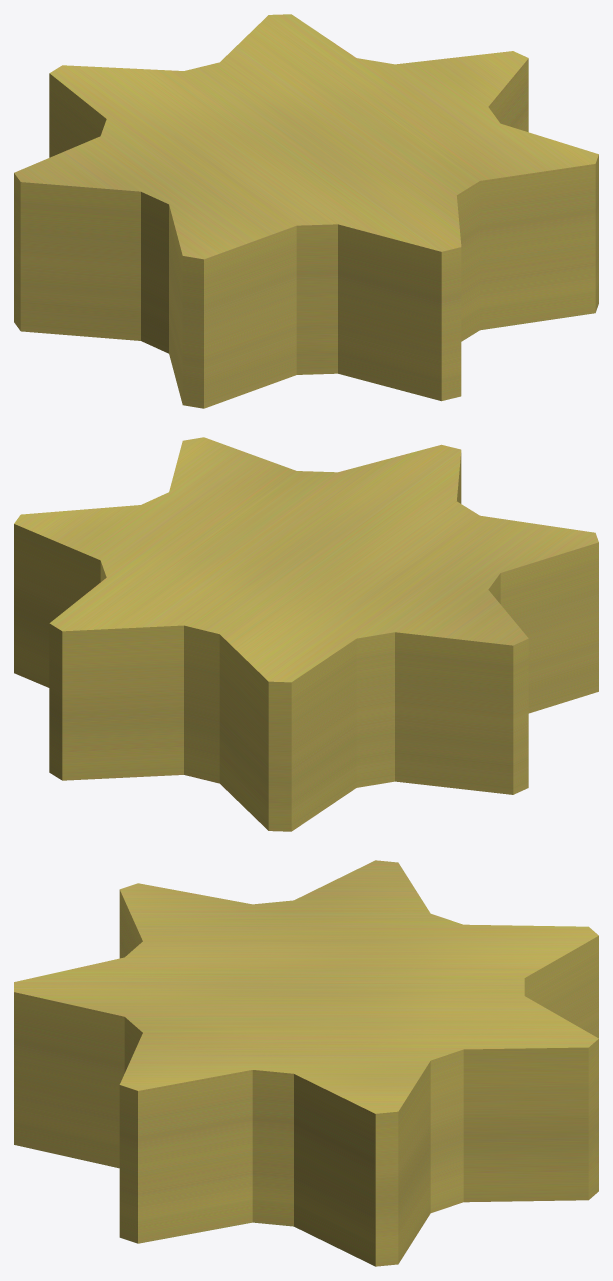
The model's file is Cog007.fbx.
3 renders of one model, top to bottom at view 1: azimuth 30°, elevation 25°; view 2: azimuth 150°, elevation 25°; view 3: azimuth 270°, elevation 25°, orthographic. The views are drawn at different scales.
Parts seen in each view (by area): view 1: Cog007; view 2: Cog007; view 3: Cog007.
Part boxes in pixels (x1=…): Cog007: x1=14, y1=14, x2=598, y2=408; Cog007: x1=14, y1=437, x2=598, y2=831; Cog007: x1=14, y1=860, x2=598, y2=1266.
Bounding box in the file's own units: 70.06 × 19.69 × 68.31.
